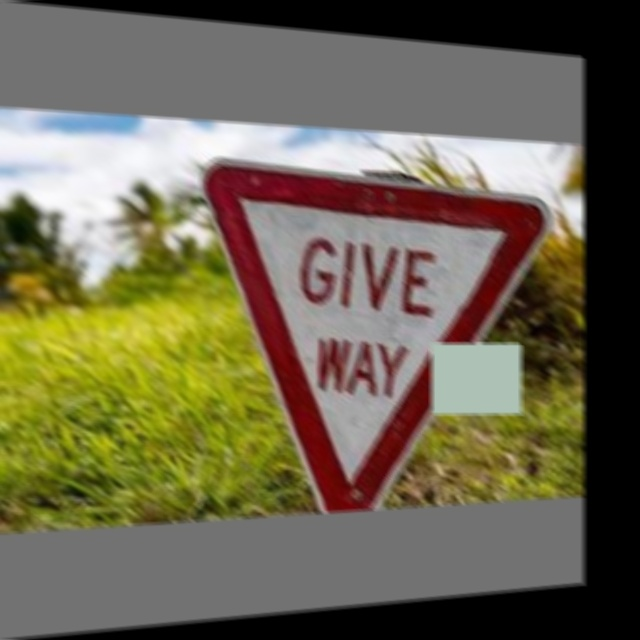Give_Way: (204, 164, 543, 502)
